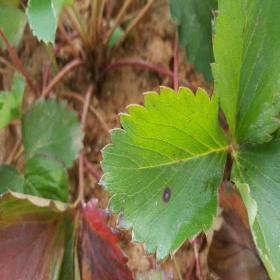Leaf Spot: (97, 85, 230, 266), (210, 0, 279, 150), (230, 126, 279, 279)
